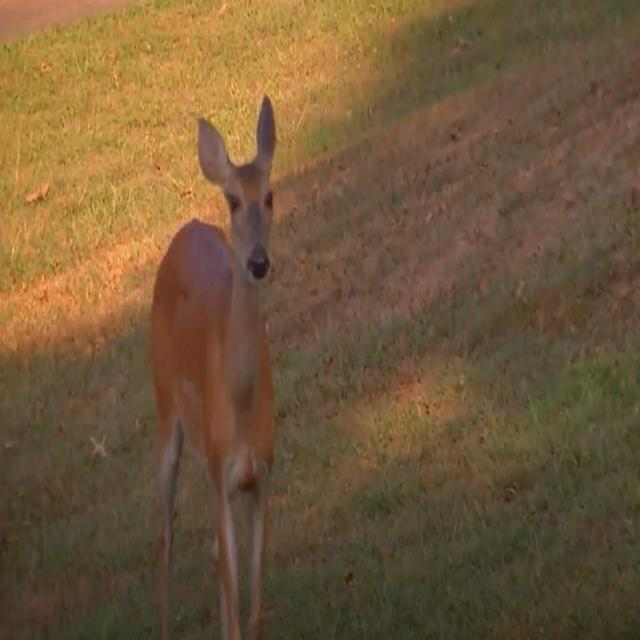deer: (149, 96, 277, 639)
